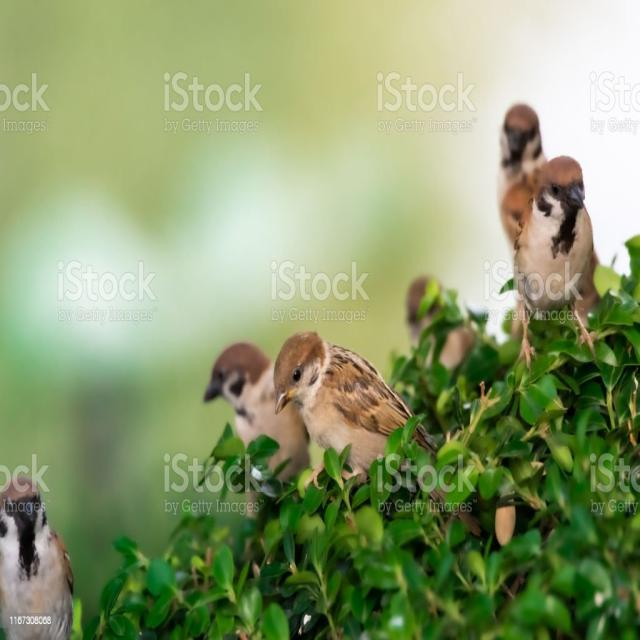bird: (245, 311, 436, 532), (4, 460, 89, 637)
